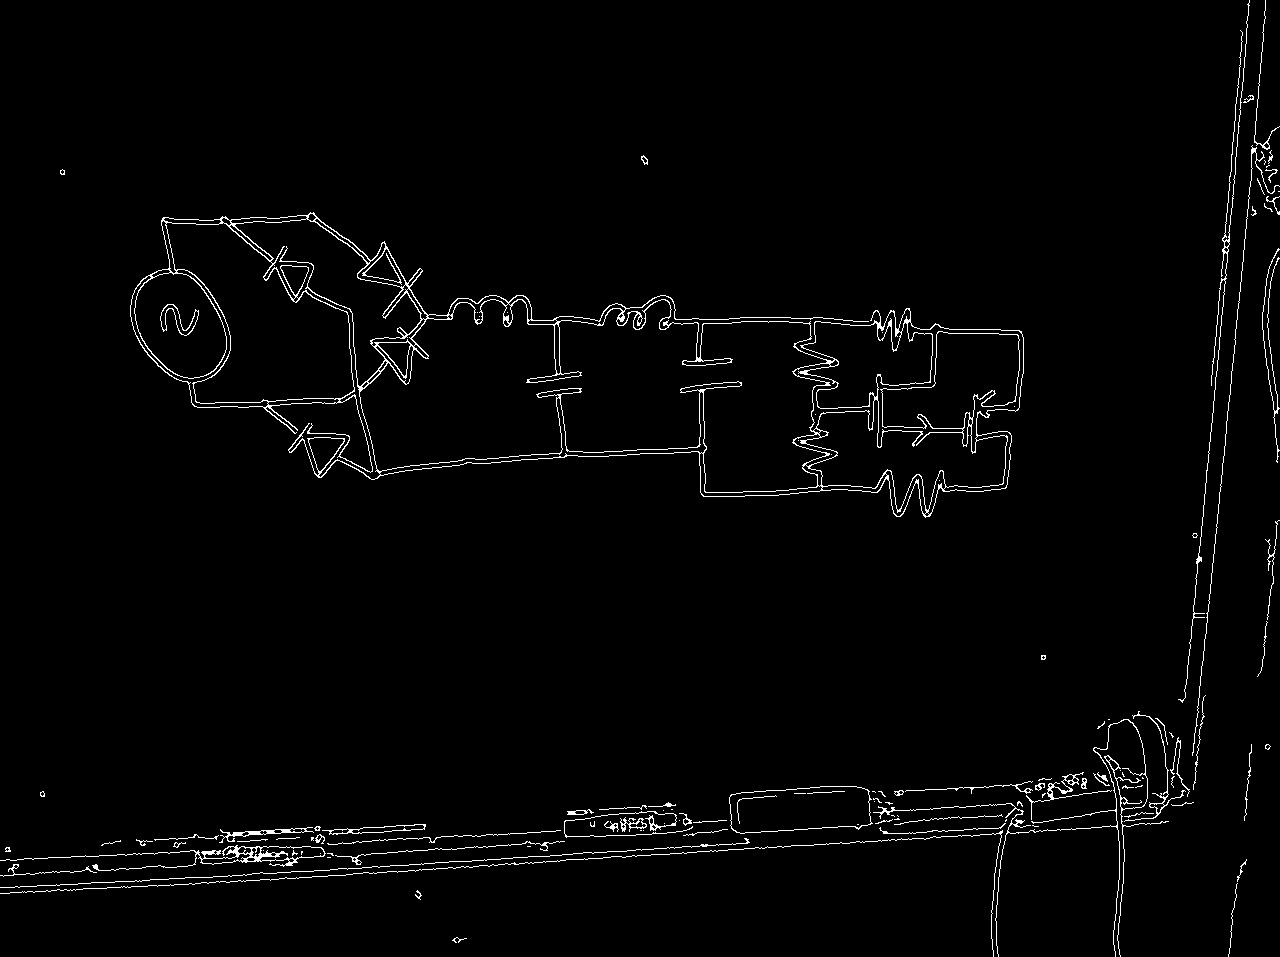capacitor: (675, 345, 747, 404), (519, 358, 586, 408)
diode: (350, 236, 426, 321), (255, 243, 335, 310), (283, 419, 356, 480), (366, 322, 432, 390)
inductor: (582, 291, 692, 338), (436, 291, 548, 331)
resistor: (863, 463, 962, 525), (784, 324, 844, 403), (787, 416, 847, 483), (858, 304, 927, 355)
signal: (125, 258, 236, 392)
